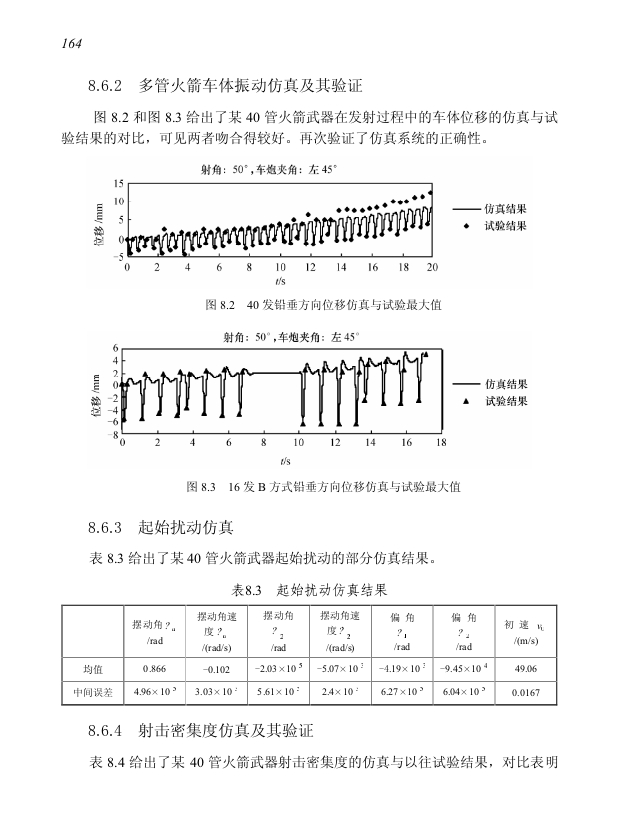table: (61, 604, 557, 706)
